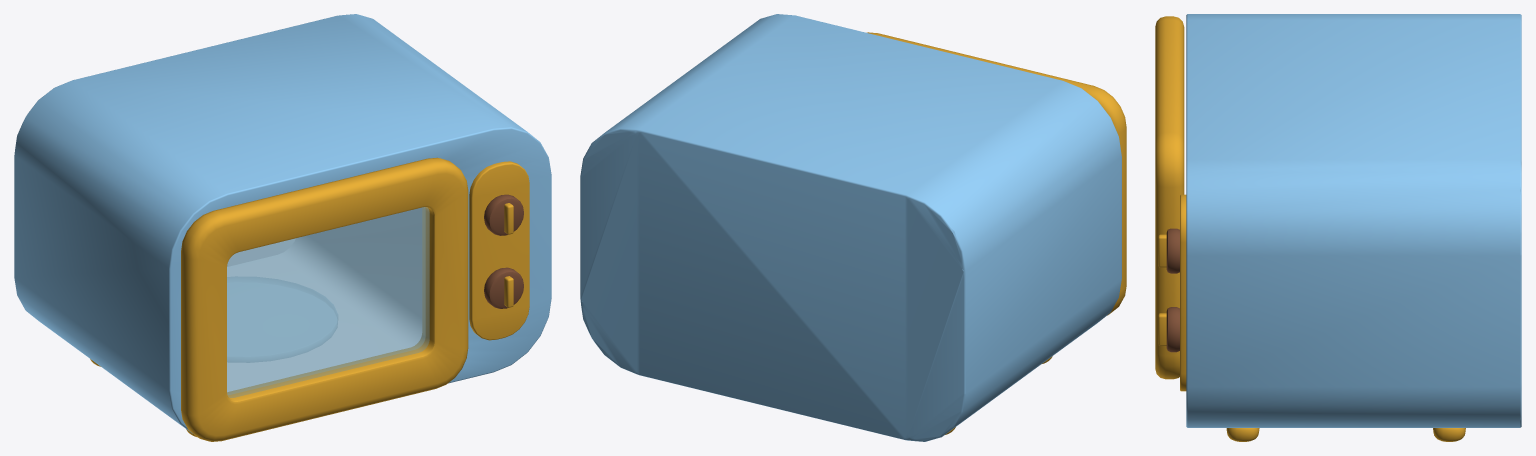
Rendered from micro_ondas_retro_azul.glb.
The picture shows the model from 3 angles, left to right: view 1: azimuth 30°, elevation 25°; view 2: azimuth 150°, elevation 25°; view 3: azimuth 270°, elevation 25°; orthographic projection. The views are drawn at different scales.
Parts seen in each view (by area): view 1: micro_ondas_retro_azul, porta; view 2: micro_ondas_retro_azul, porta; view 3: micro_ondas_retro_azul, porta.
Boxes of the visible parts, x1,y1,x2,y2 form: micro_ondas_retro_azul: (14,14,551,436); porta: (181,157,468,441); micro_ondas_retro_azul: (580,14,1121,441); porta: (867,32,1126,315); micro_ondas_retro_azul: (1158,14,1521,441); porta: (1155,16,1184,379).
Size of the model in its own units: 0.46 by 0.298 by 0.355.
2 materials, 1 textured.
